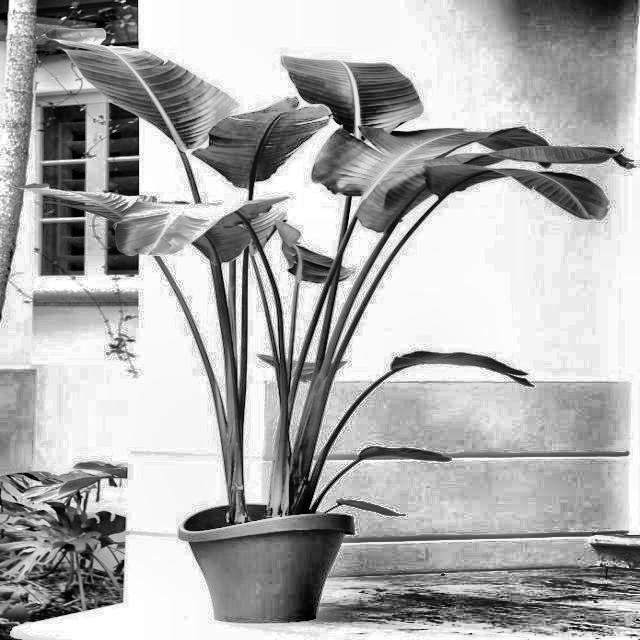plants: (52, 22, 590, 518)
